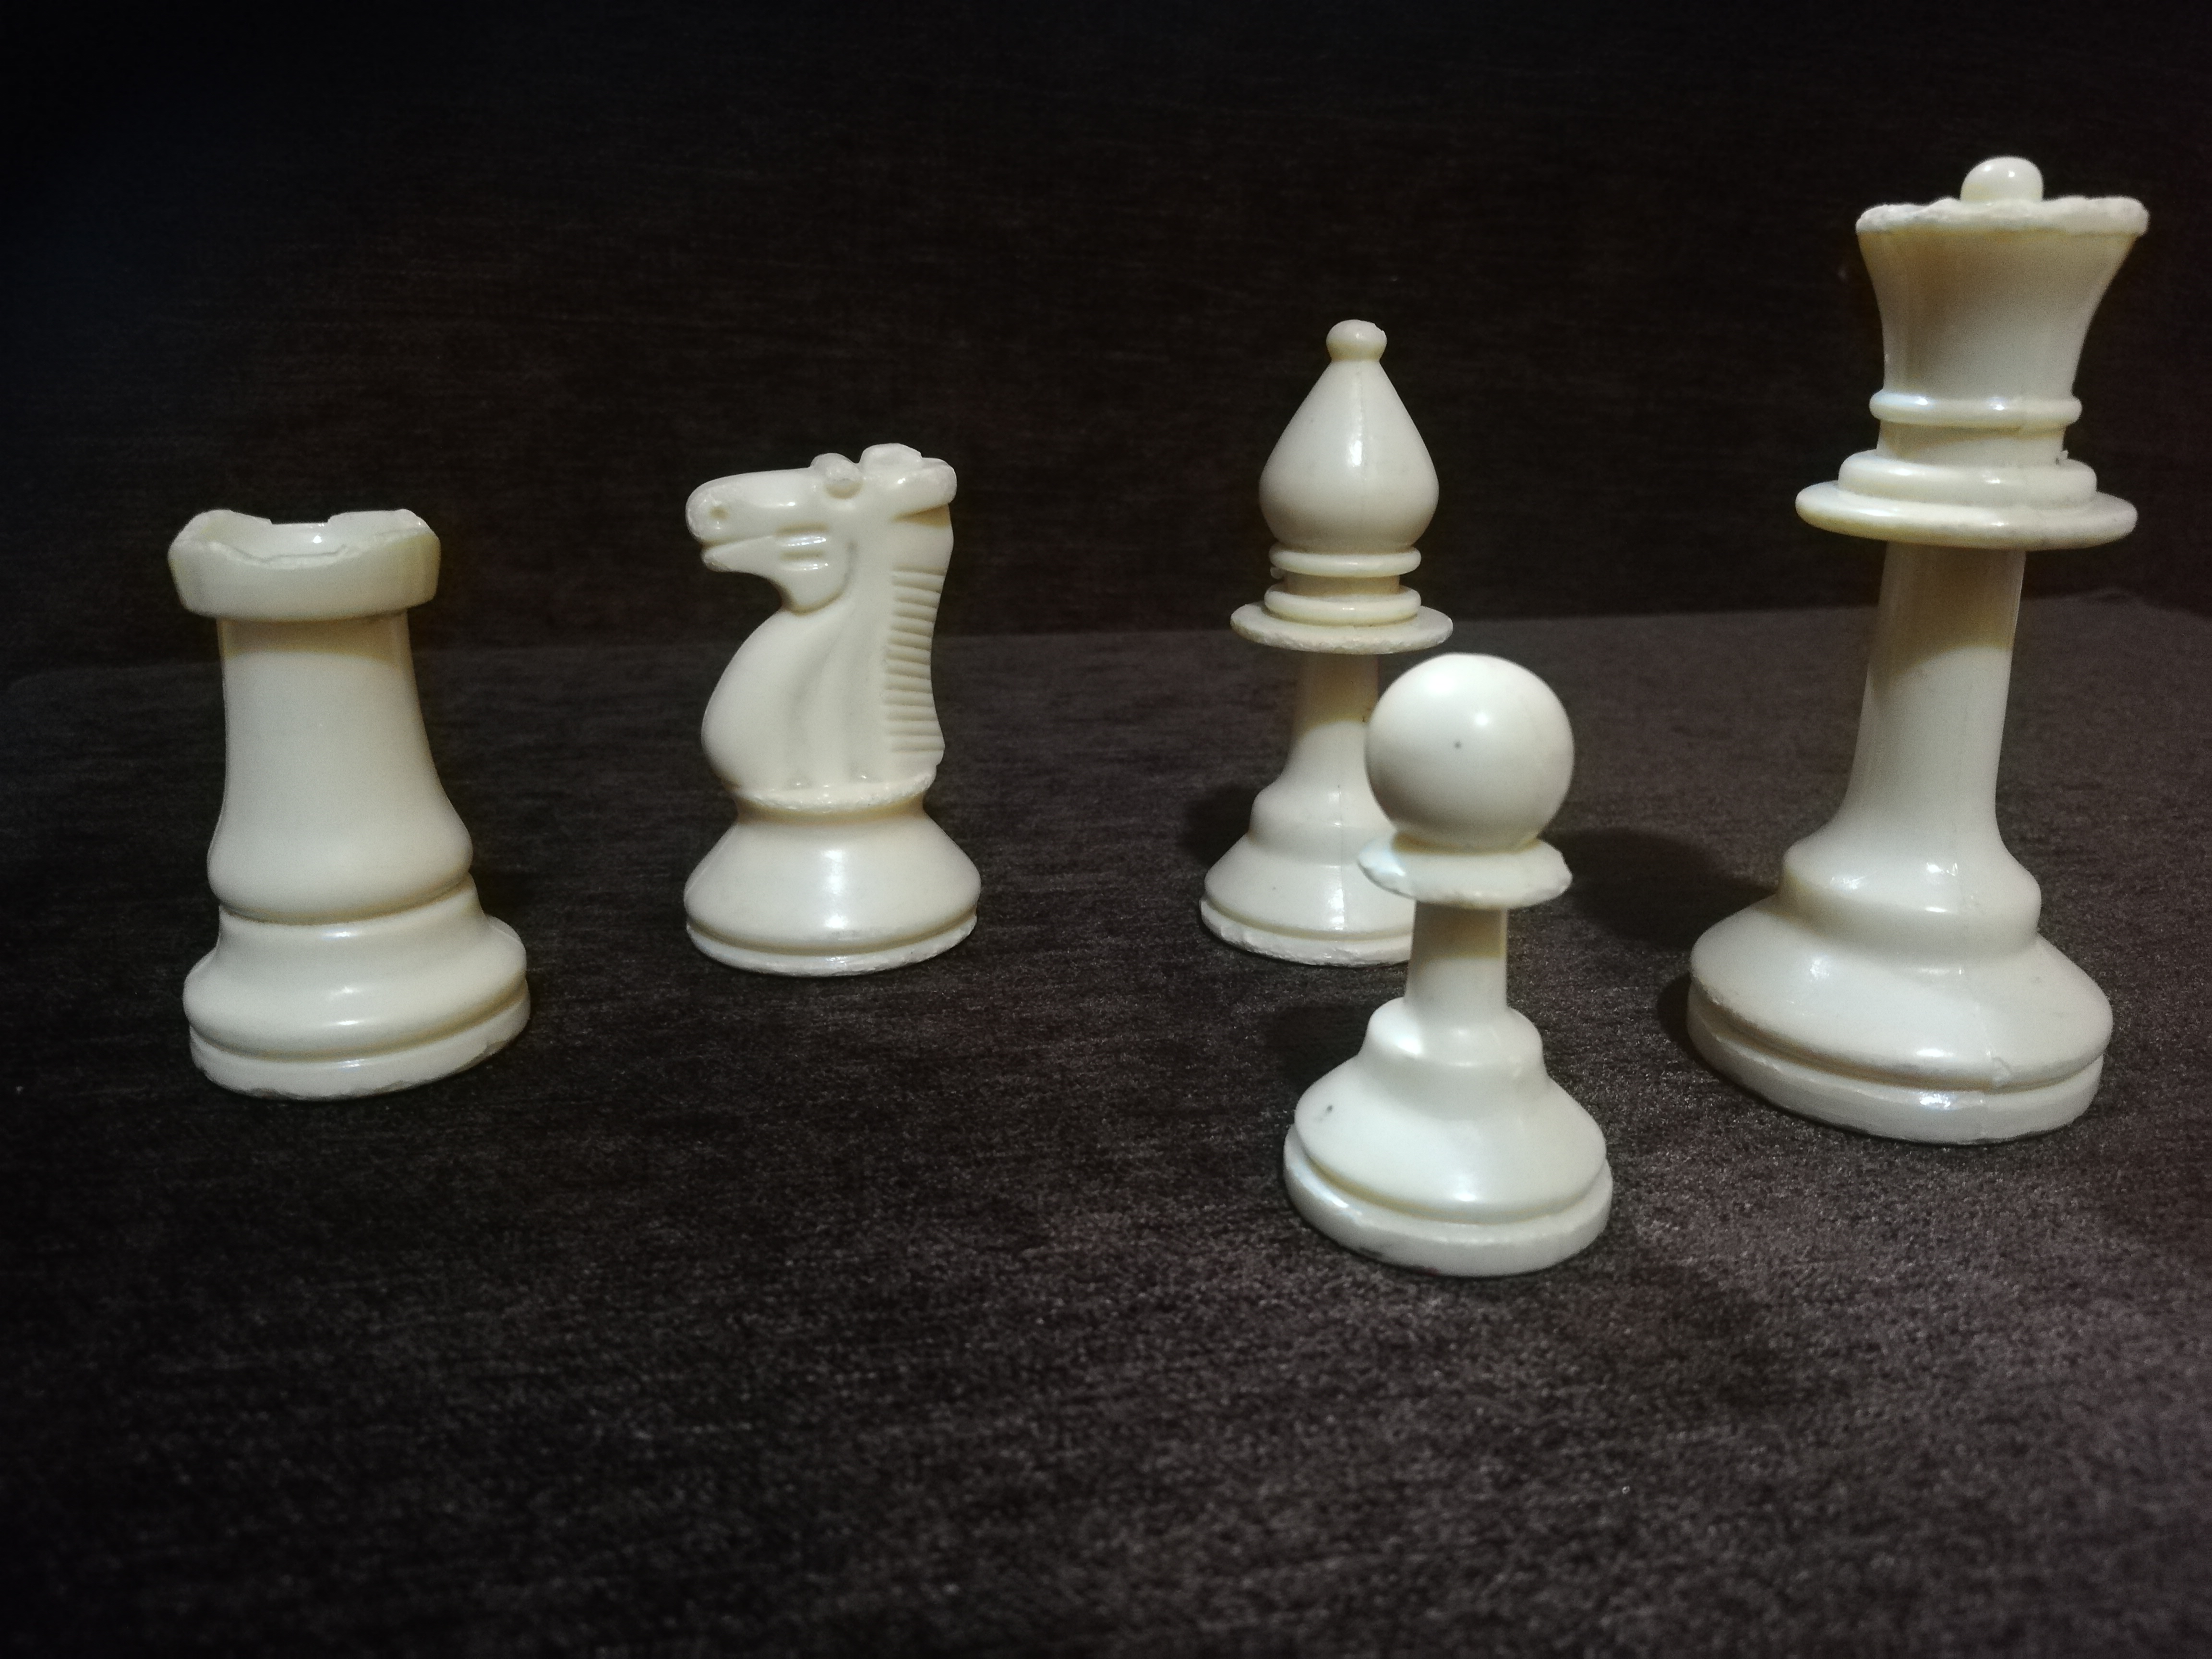Bishop: (1185, 310, 1443, 964)
Knight: (651, 440, 997, 957)
Pawn: (1343, 659, 1619, 1286)
Queen: (1694, 156, 2161, 1131)
Rook: (132, 500, 555, 1082)
